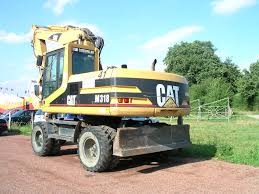excavator: (26, 20, 195, 173)
